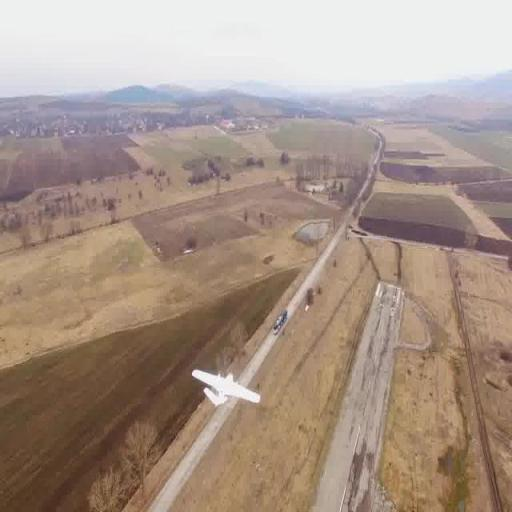uav: (190, 358, 264, 420)
